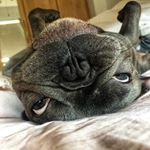puppy: (4, 1, 148, 130)
